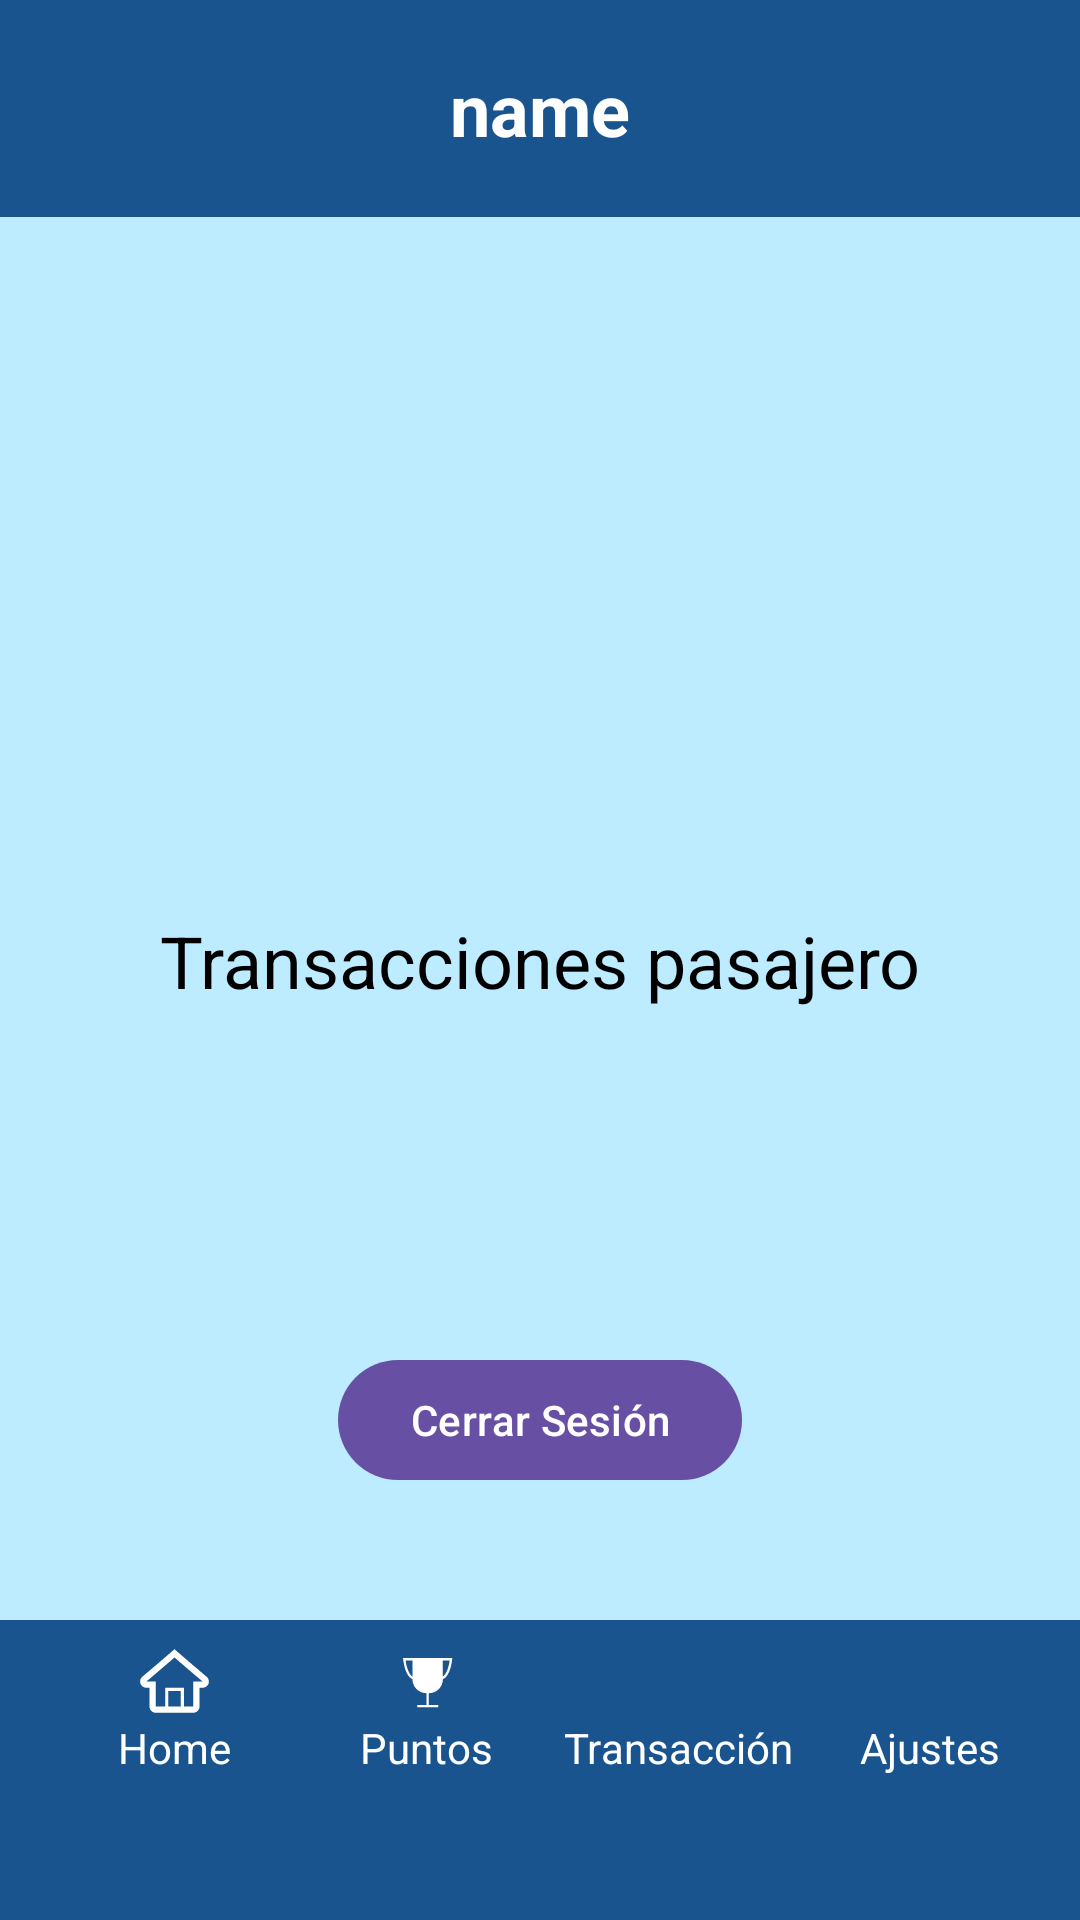

Locate icon controls on the screen. Image size 1080px x 1920px, boxes as (x1=x1, y1=y1, x2=x2, y2=y2).
trophy: (x1=403, y1=1658, x2=453, y2=1708)
